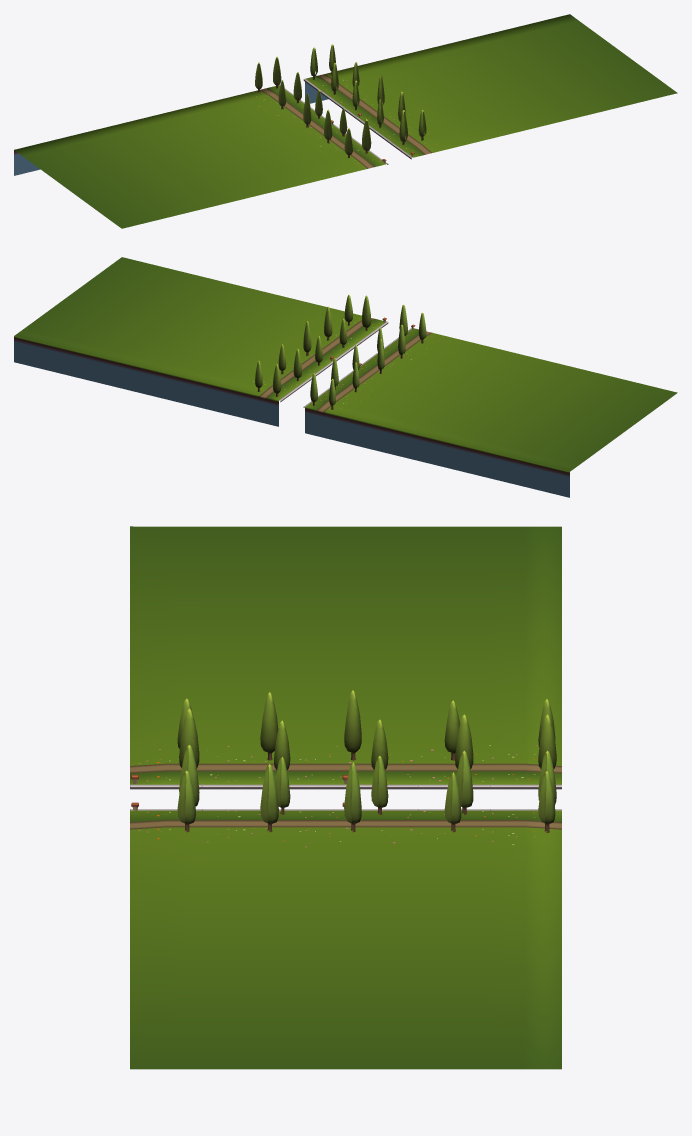
File: Tom1_PackSet01_30.fbx
3 renders of one model, top to bottom at view 1: azimuth 30°, elevation 25°; view 2: azimuth 150°, elevation 25°; view 3: azimuth 270°, elevation 25°, orthographic. The views are drawn at different scales.
Visible parts, largest first — view 1: Tom1_ParkSet01_30; view 2: Tom1_ParkSet01_30; view 3: Tom1_ParkSet01_30.
Part boxes in pixels (<box>): Tom1_ParkSet01_30: <box>14,14,677,228</box>; Tom1_ParkSet01_30: <box>14,257,677,497</box>; Tom1_ParkSet01_30: <box>130,526,561,1069</box>.
Bounding box in the file's own units: 8921 × 953 × 3000.
